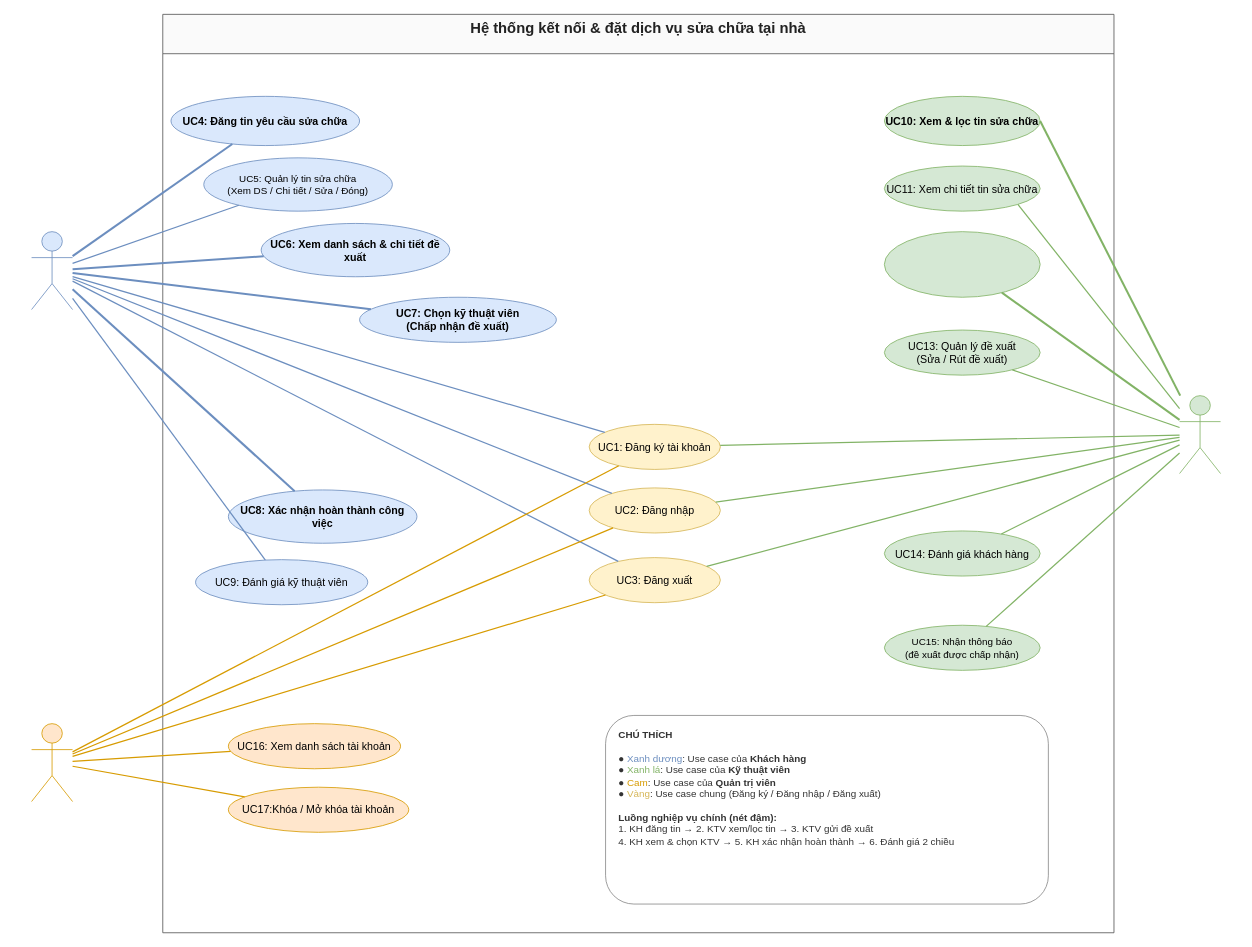
Some shapes in this 1252 by 947 pixel diagram are drawn without their labels. The centre of each missing label's shape, as x and y in pixels:
Khách hàng: the point at 52,270
Kỹ thuật viên: the point at 1200,434
Quản trị viên: the point at 52,762
UC12: Gửi đề xuất sửa chữa: the point at 962,264
